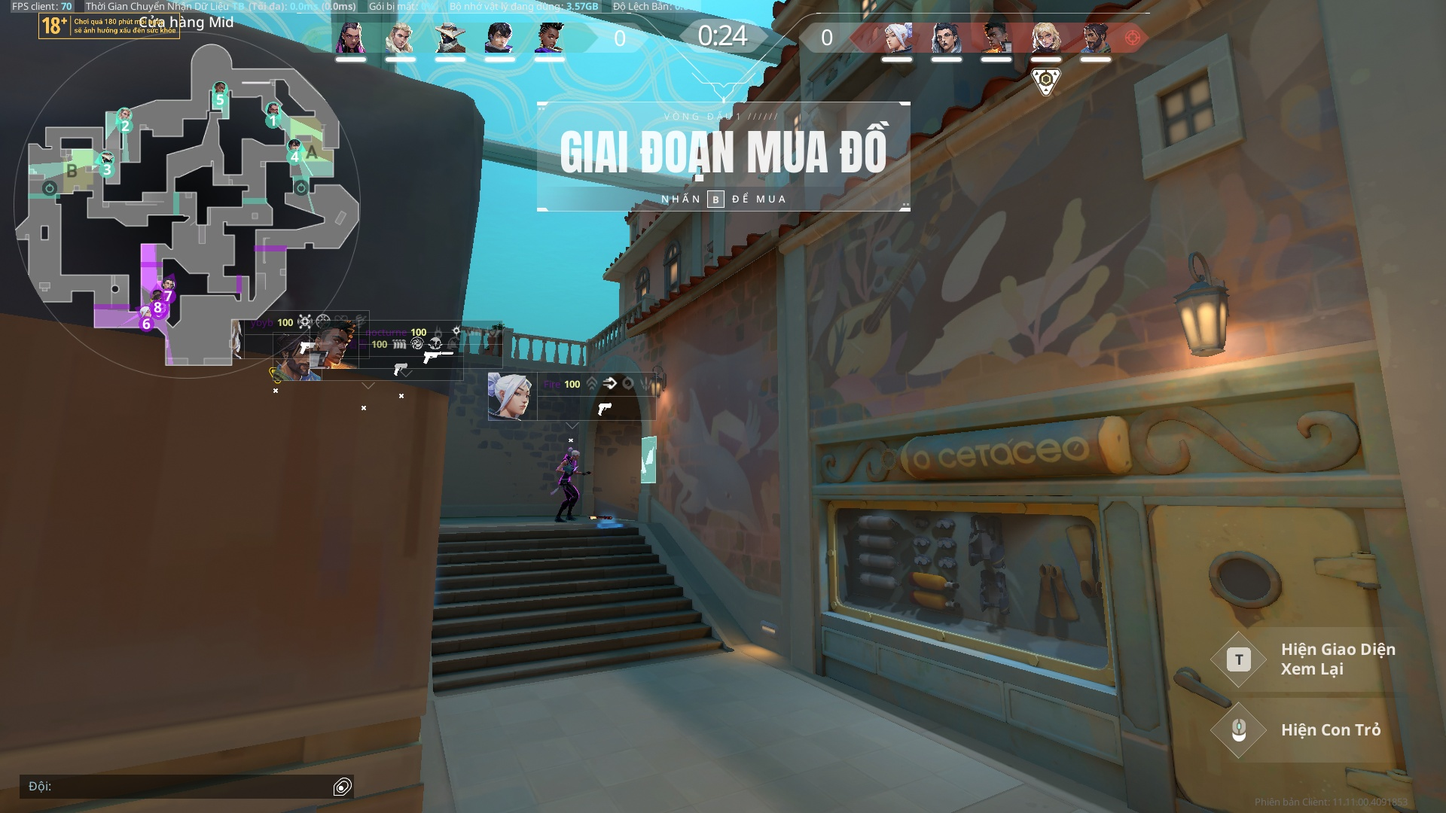body: (562, 455, 576, 477)
head: (570, 449, 580, 459)
